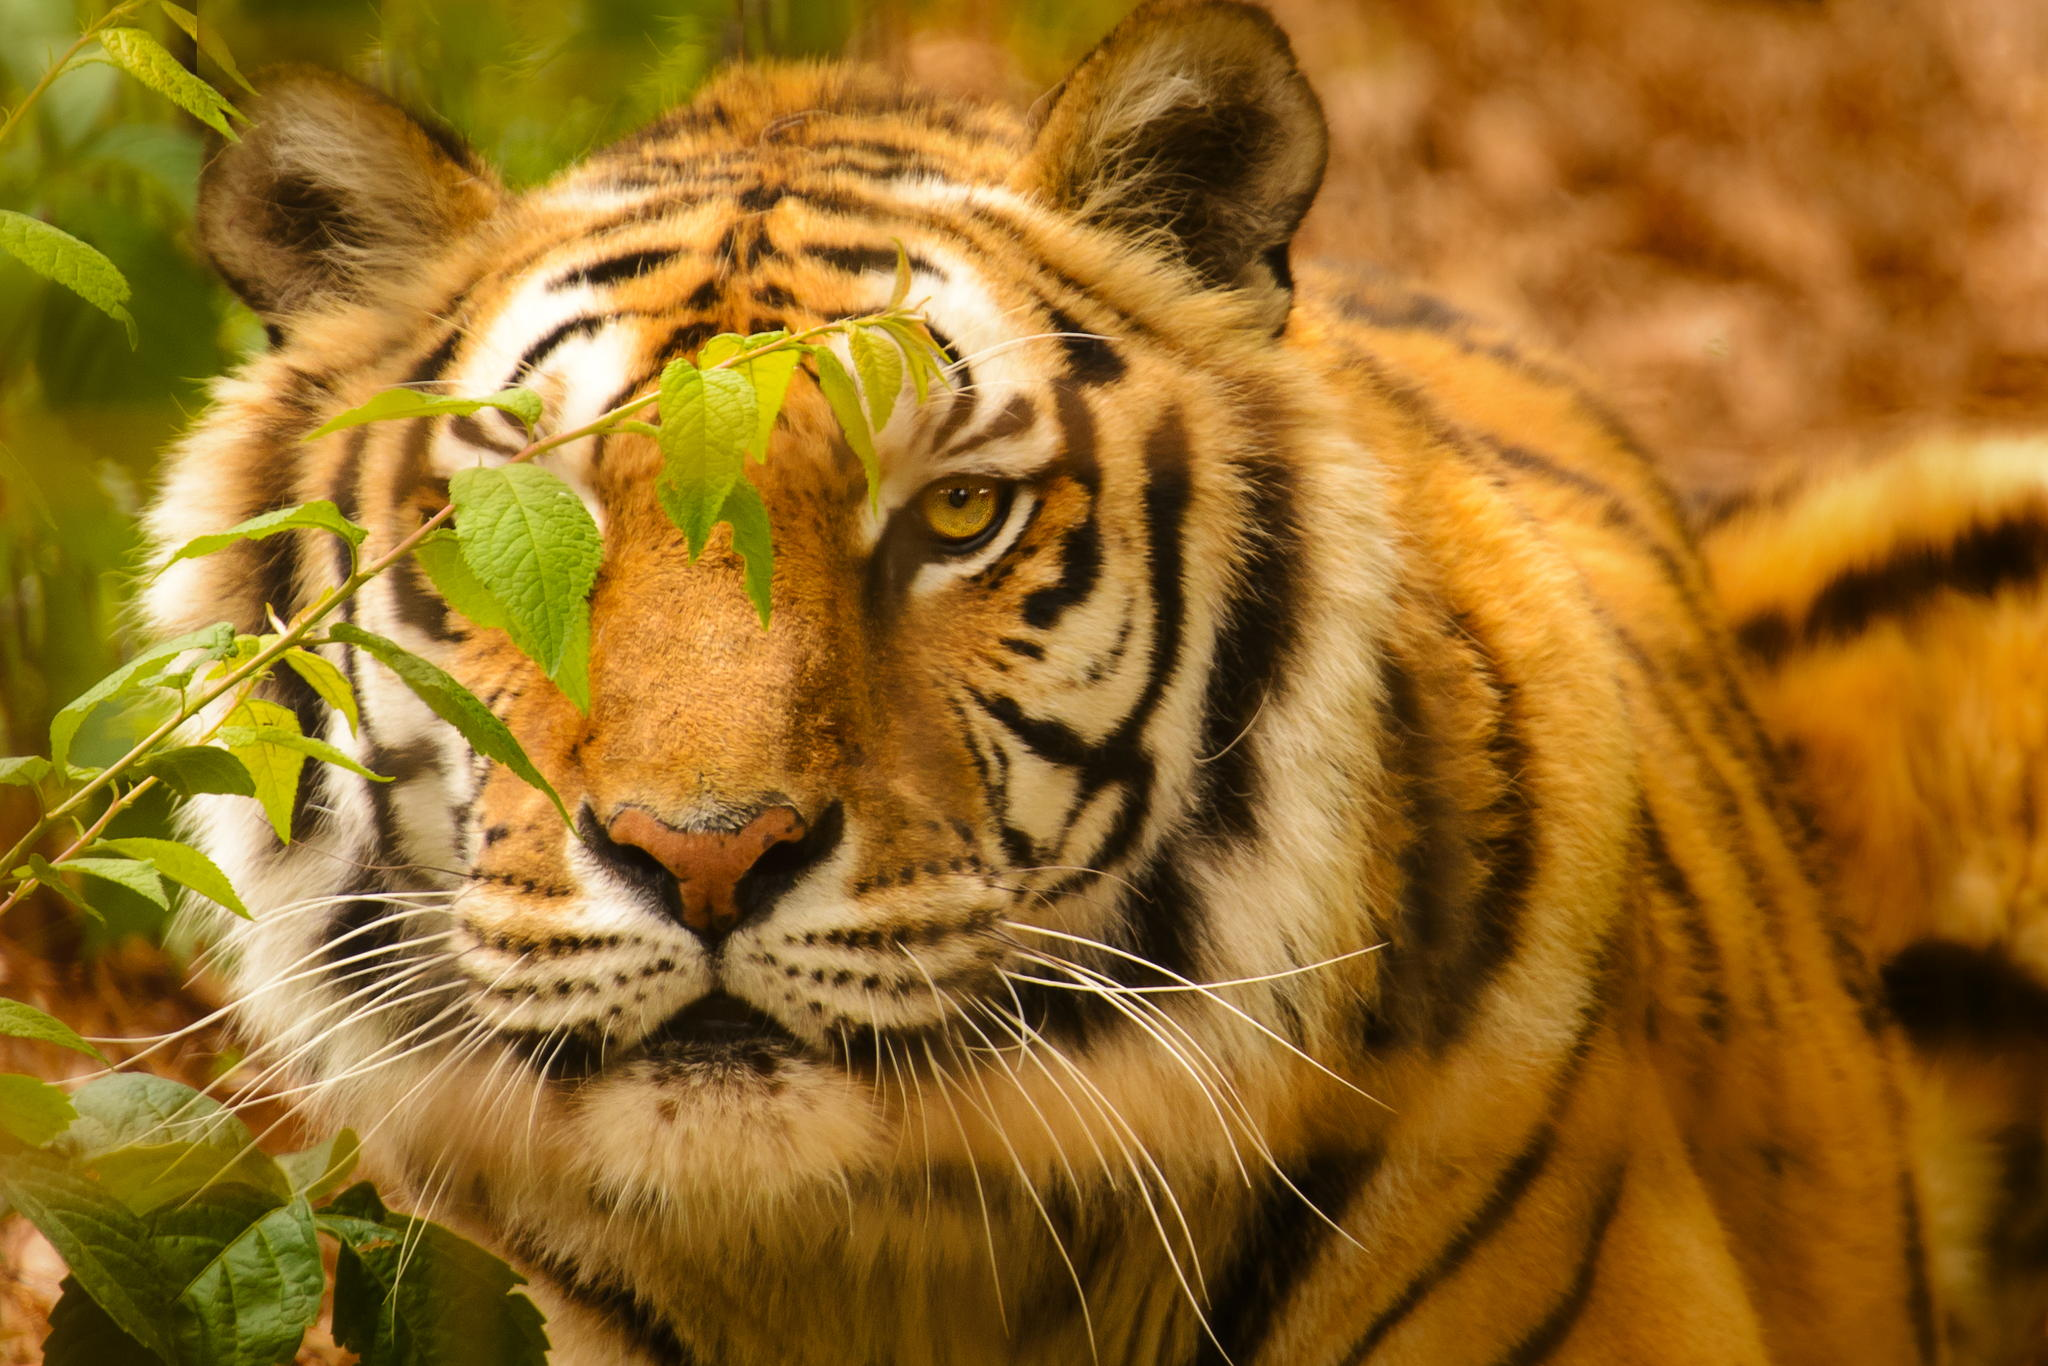tiger: (143, 61, 1707, 1172)
